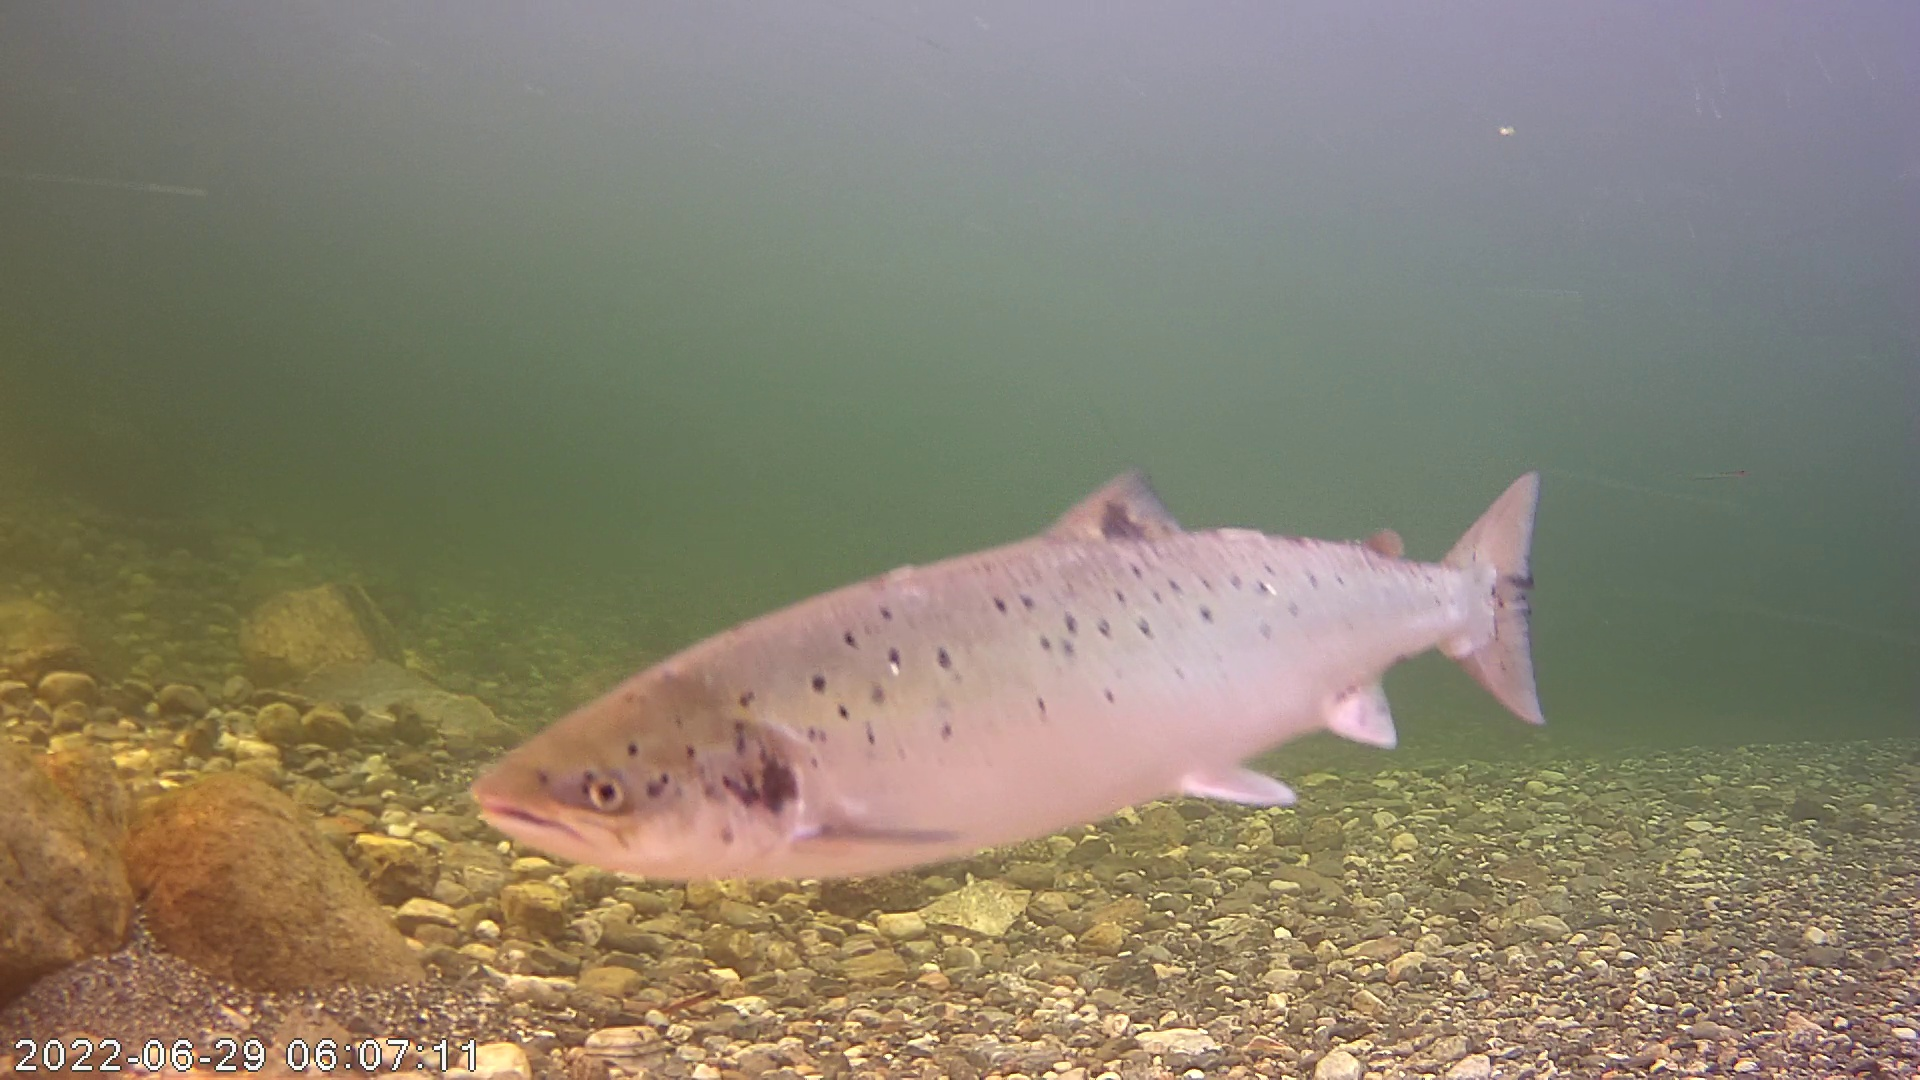salmon: (488, 392, 1540, 877)
